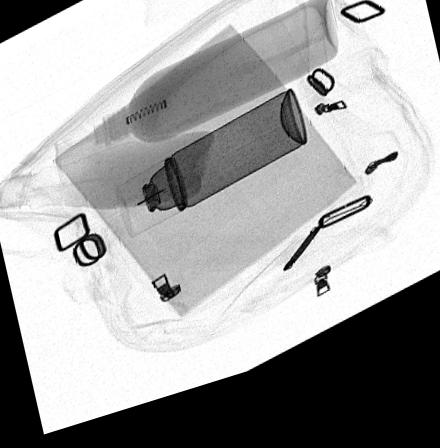Sprayer: (116, 104, 304, 246)
